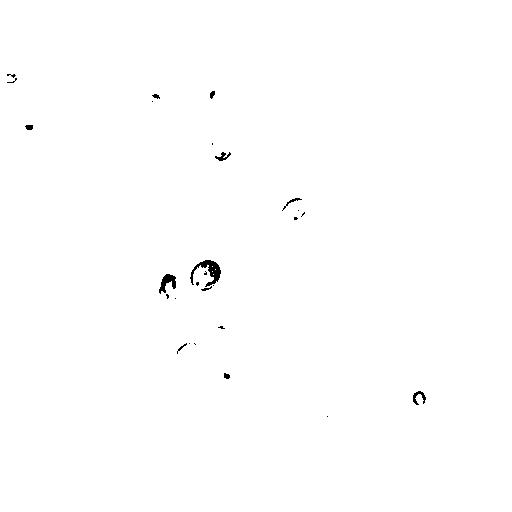micro-algae: (391, 0, 431, 45), (188, 257, 224, 294), (207, 353, 243, 389), (12, 106, 45, 139), (173, 338, 205, 369), (280, 195, 311, 223), (239, 127, 264, 159), (208, 133, 234, 162), (154, 281, 182, 307), (159, 272, 178, 295), (411, 389, 427, 407), (203, 85, 219, 101), (3, 71, 19, 85)
